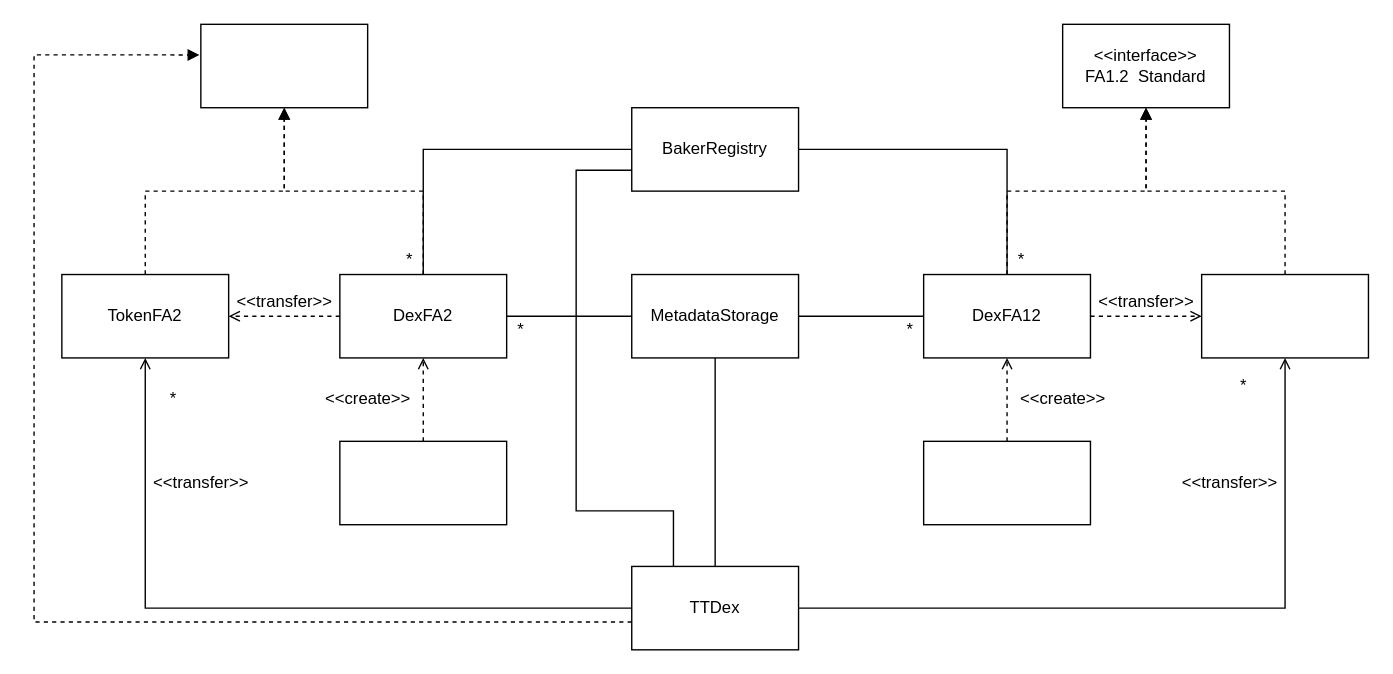
Some shapes in this 1393 by 674 pixel diagram are drawn without their labels. The shapes that lost their labels are listed below. From the top down, each one's box as (x1, y1, x2, y2) in pixels, then its label:
(199, 23, 368, 108): <<interface>> FA2 Standard
(1200, 273, 1368, 358): TokenFA12
(338, 440, 507, 525): FactoryFA2
(922, 440, 1090, 525): FactoryFA12
